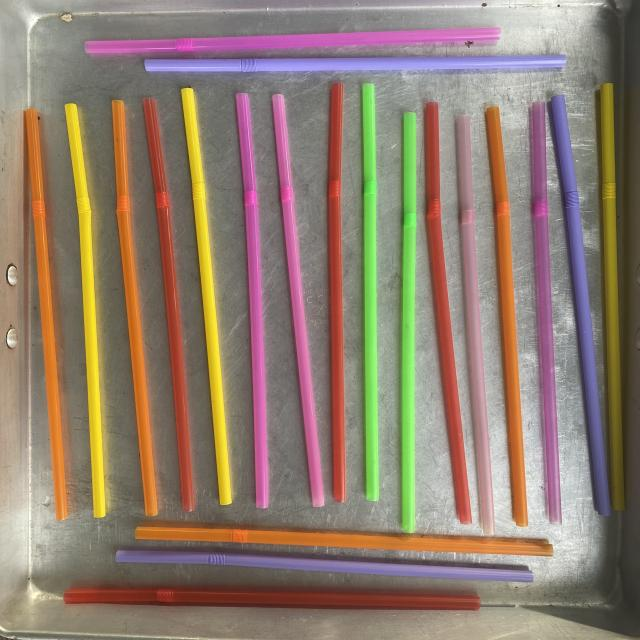Single-Use-Plastic: (551, 95, 610, 515), (142, 98, 194, 511), (272, 94, 324, 506), (181, 88, 231, 505), (111, 100, 158, 516), (425, 102, 471, 524), (485, 106, 528, 526), (25, 109, 68, 520), (65, 104, 105, 518), (456, 115, 495, 535), (236, 92, 269, 509), (116, 550, 534, 582), (531, 101, 561, 524), (135, 526, 552, 556), (85, 28, 501, 54), (600, 84, 625, 510), (64, 589, 481, 610), (328, 82, 346, 502), (145, 55, 566, 72), (362, 84, 379, 501), (401, 112, 416, 532)
